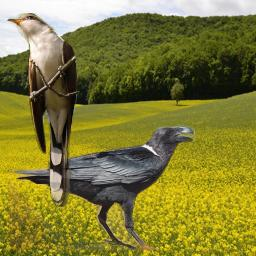Crow: (8, 123, 196, 250)
Cuckoo: (6, 13, 78, 207)
